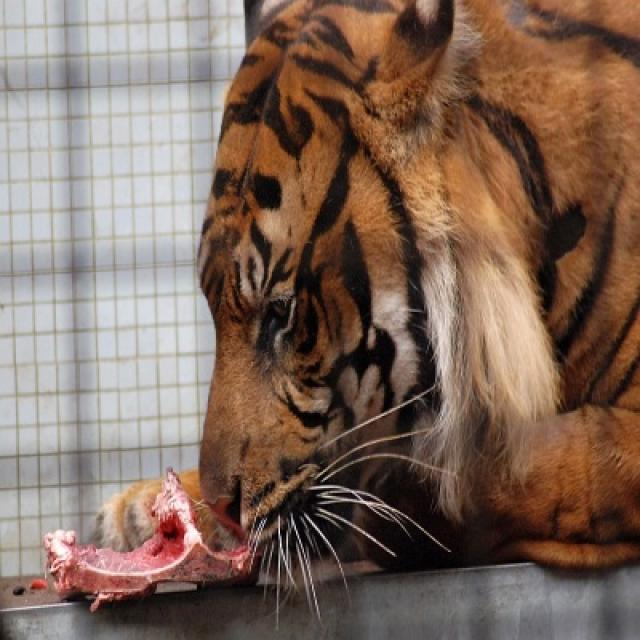Tiger: (91, 1, 638, 587)
